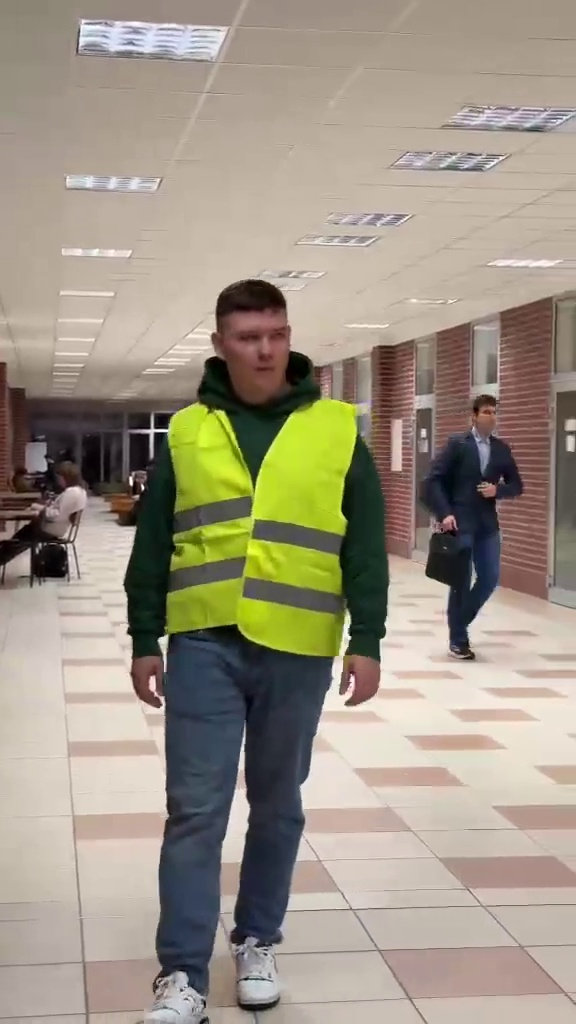no vest: (421, 394, 523, 669), (4, 466, 85, 568)
vest: (130, 274, 380, 1019)
